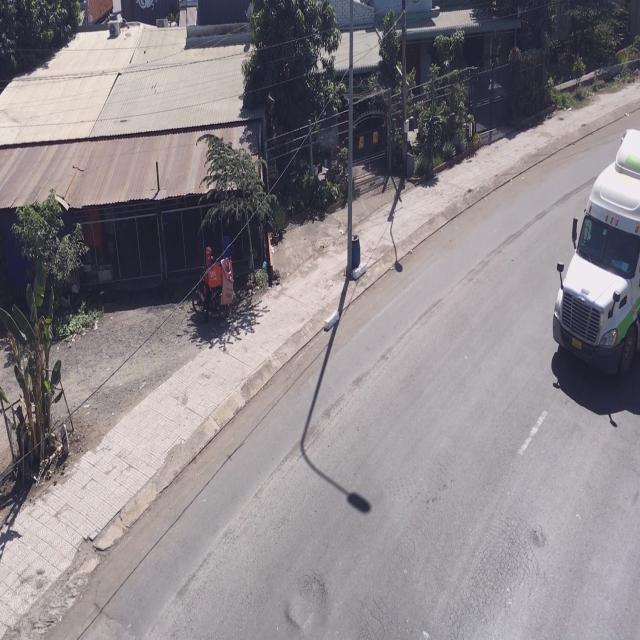truck: (554, 125, 639, 377)
